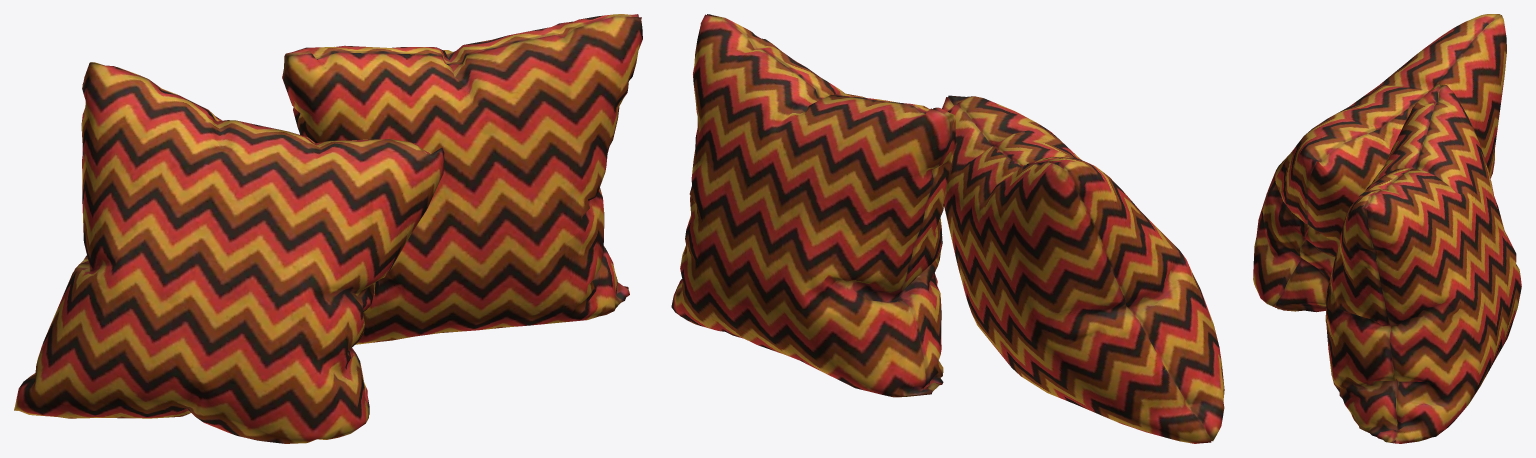
Rendered from throw_pillows_01.glb.
3 renders of one model, left to right at view 1: azimuth 30°, elevation 25°; view 2: azimuth 150°, elevation 25°; view 3: azimuth 270°, elevation 25°, orthographic. The views are drawn at different scales.
Visible parts, largest first — view 1: throw_pillows_01_pillow02; view 2: throw_pillows_01_pillow02; view 3: throw_pillows_01_pillow02.
Part boxes in pixels (x1=…): throw_pillows_01_pillow02: x1=14, y1=14, x2=642, y2=443; throw_pillows_01_pillow02: x1=671, y1=14, x2=1224, y2=443; throw_pillows_01_pillow02: x1=1253, y1=14, x2=1521, y2=443.
Bounding box in the file's own units: 0.9401 × 0.4501 × 0.4519.
1 material, 1 textured.
